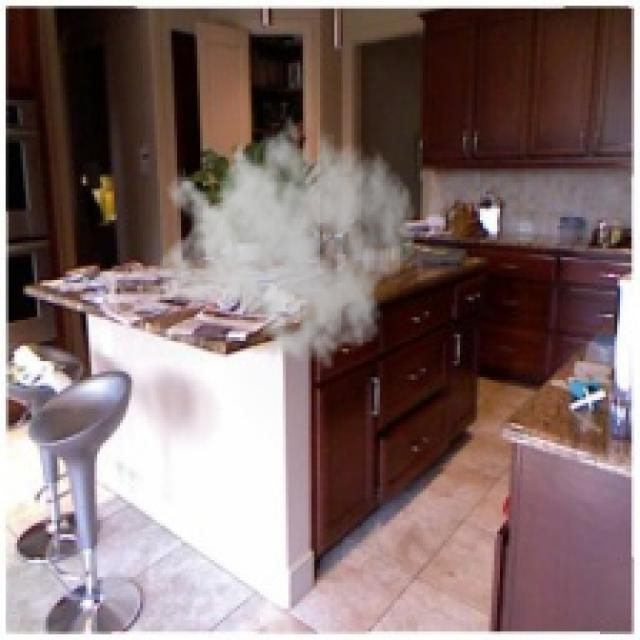Smoke: (154, 100, 417, 372)
